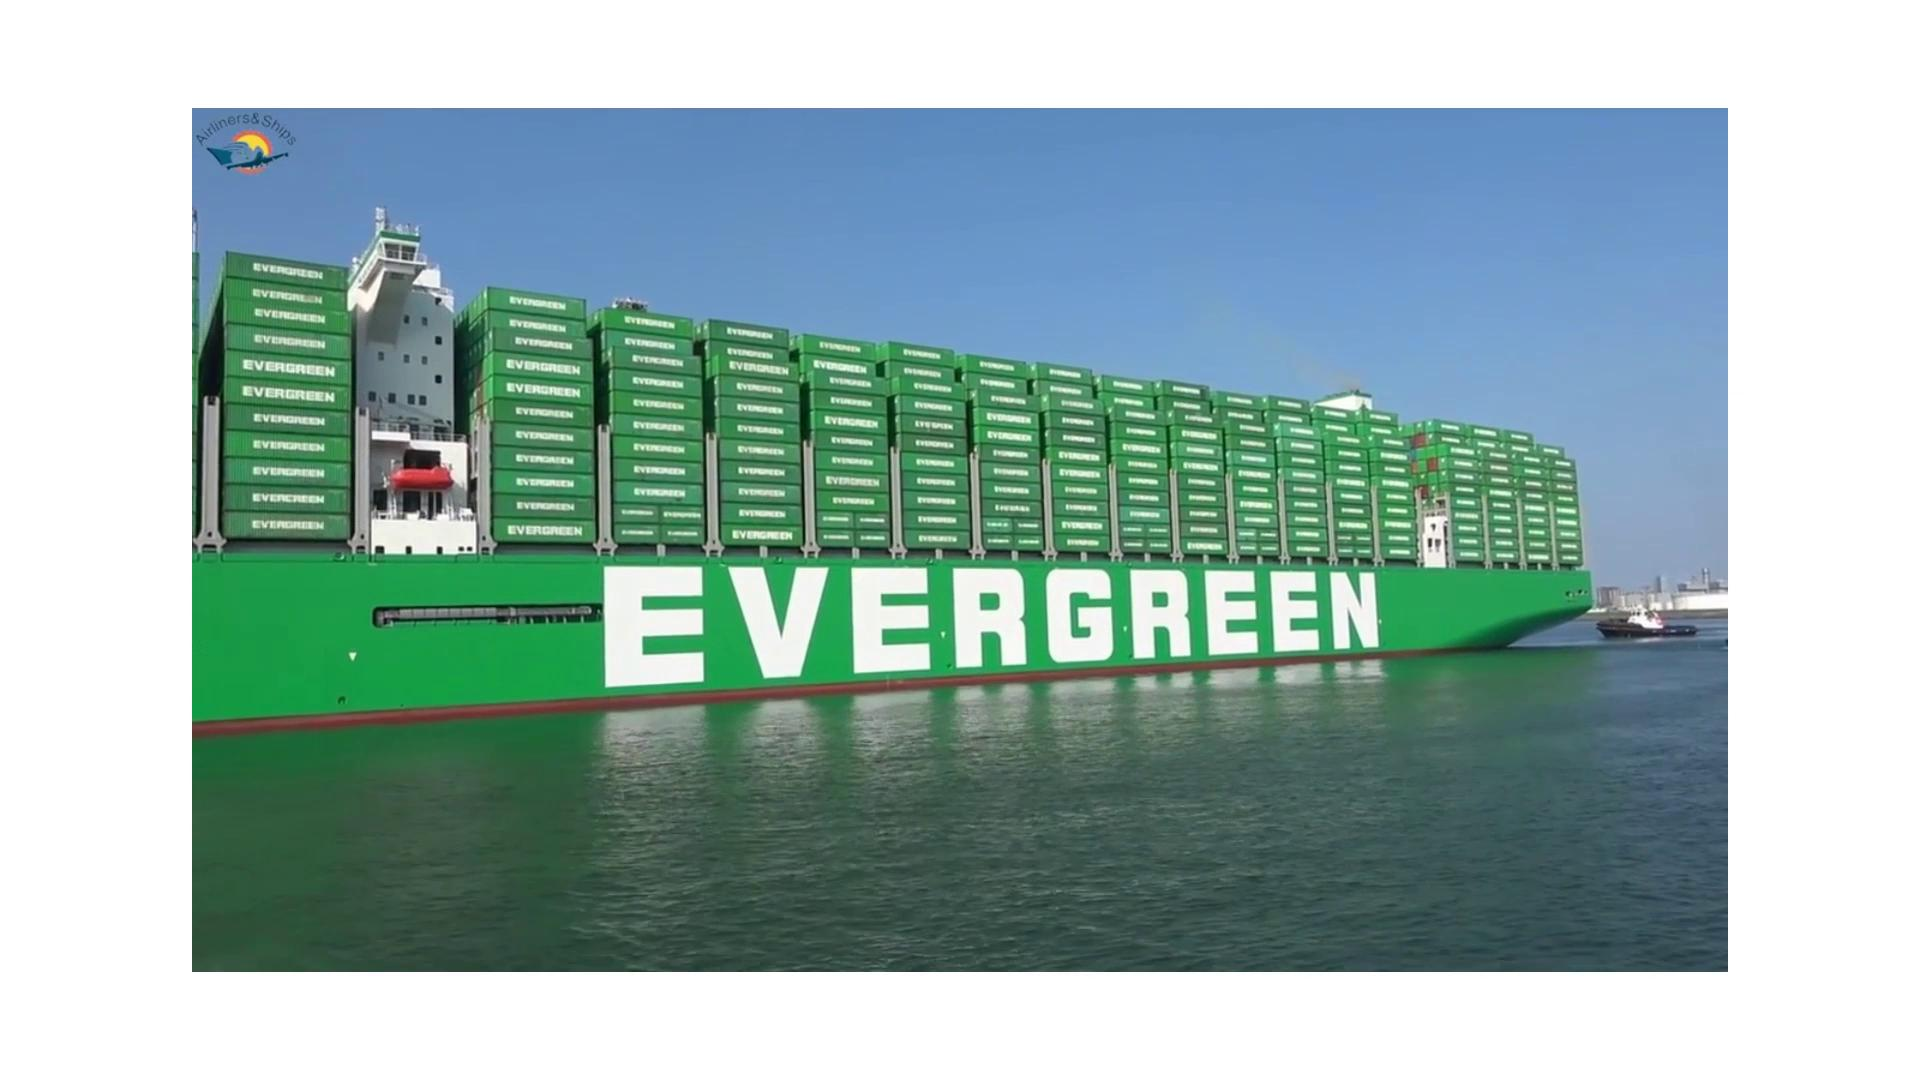OCR: (571, 545, 1408, 698)
